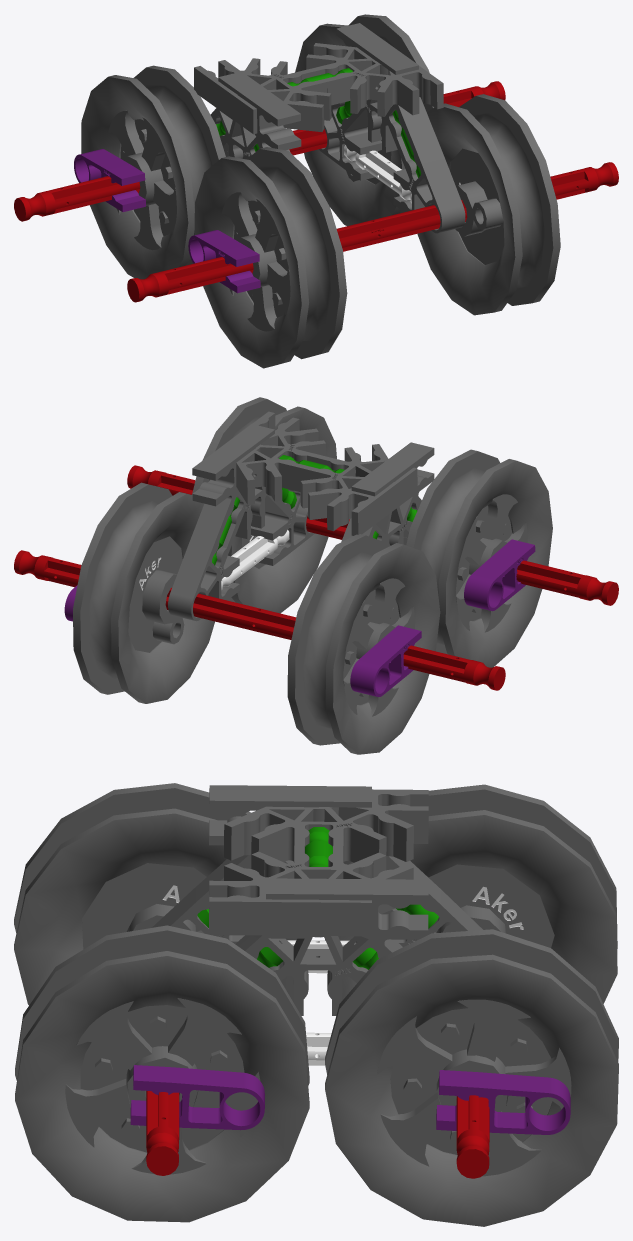
3 renders of one model, top to bottom at view 1: azimuth 30°, elevation 25°; view 2: azimuth 150°, elevation 25°; view 3: azimuth 270°, elevation 25°, orthographic. The views are drawn at different scales.
Parts seen in each view (by area): view 1: P2_L15_2.003; view 2: P2_L15_2.003; view 3: P2_L15_2.003.
Part boxes in pixels (x1,y1,x2,y2): P2_L15_2.003: (14, 14, 618, 368); P2_L15_2.003: (14, 397, 618, 754); P2_L15_2.003: (14, 783, 618, 1226).
Bounding box in the file's own units: 1.1 × 0.4804 × 0.8778.
